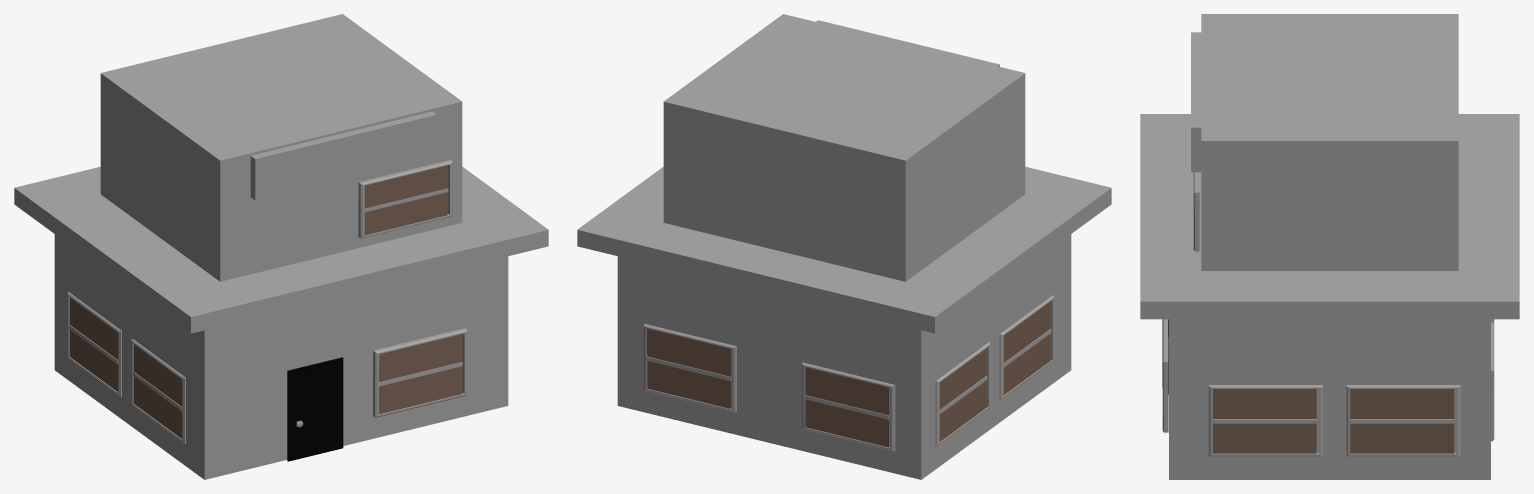
The model's file is Building2.fbx.
3 renders of one model, left to right at view 1: azimuth 30°, elevation 25°; view 2: azimuth 150°, elevation 25°; view 3: azimuth 270°, elevation 25°, orthographic. The views are drawn at different scales.
Visible parts, largest first — view 1: pCube360, pCube358, pCube359, pCube361, polySurface759, polySurface758, pSphere42, polySurface762, polySurface763; view 2: pCube360, pCube358, pCube359, polySurface765, polySurface761, polySurface762, polySurface763, pCube361; view 3: pCube360, pCube359, pCube358, polySurface764, polySurface760, pCube361, polySurface759, polySurface758, polySurface761.
Part boxes in pixels (<box>): pCube360: <box>100,14,462,281</box>; pCube358: <box>54,234,508,479</box>; pCube359: <box>14,166,548,333</box>; pCube361: <box>250,111,436,200</box>; polySurface759: <box>373,328,467,417</box>; polySurface758: <box>358,159,452,238</box>; pSphere42: <box>287,357,343,461</box>; polySurface762: <box>131,339,185,443</box>; polySurface763: <box>67,292,121,396</box>; pCube360: <box>663,14,1025,281</box>; pCube358: <box>617,234,1071,479</box>; pCube359: <box>577,166,1111,333</box>; polySurface765: <box>802,362,895,451</box>; polySurface761: <box>643,324,736,412</box>; polySurface762: <box>999,295,1053,399</box>; polySurface763: <box>935,342,989,446</box>; pCube361: <box>816,20,999,66</box>; pCube360: <box>1201,14,1458,270</box>; pCube359: <box>1140,114,1519,319</box>; pCube358: <box>1169,319,1490,479</box>; polySurface764: <box>1346,385,1460,456</box>; polySurface760: <box>1208,385,1322,456</box>; pCube361: <box>1191,32,1201,172</box>; polySurface759: <box>1162,319,1168,432</box>; polySurface758: <box>1193,172,1199,251</box>; polySurface761: <box>1491,322,1494,441</box>.
Bounding box in the file's own units: 191 × 154 × 164.
